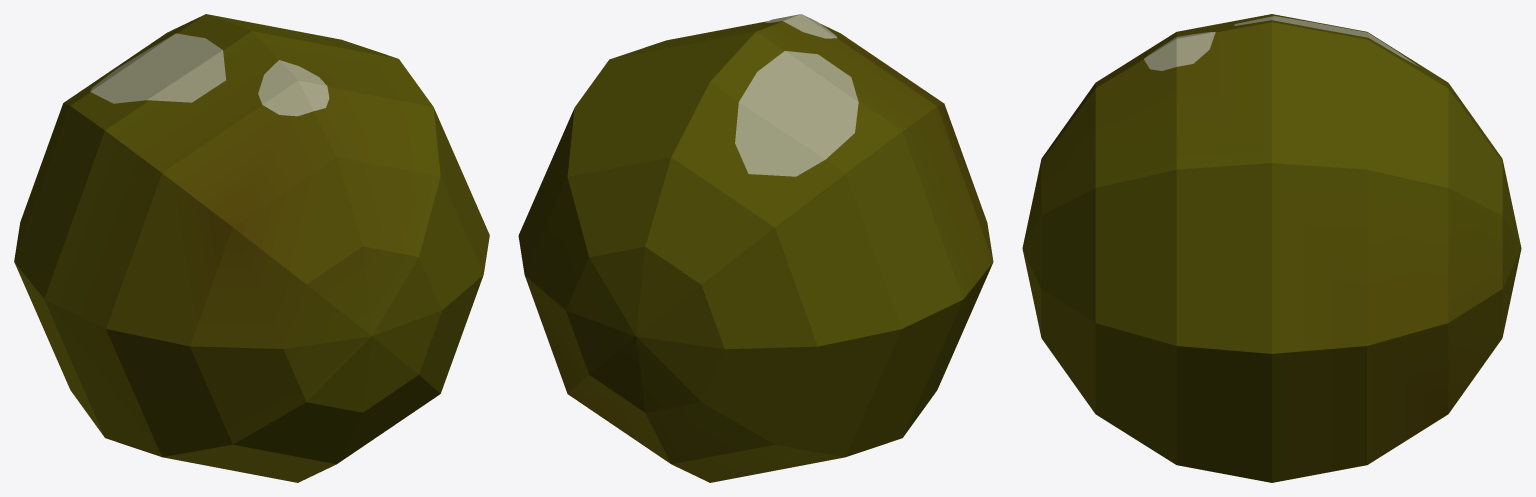
Rendered from platformBuoyBulbOff.fbx.
3 renders of one model, left to right at view 1: azimuth 30°, elevation 25°; view 2: azimuth 150°, elevation 25°; view 3: azimuth 270°, elevation 25°, orthographic. The views are drawn at different scales.
Visible parts, largest first — view 1: platformBuoyBulbOff; view 2: platformBuoyBulbOff; view 3: platformBuoyBulbOff.
Part boxes in pixels (x1,y1,x2,y2): platformBuoyBulbOff: (14, 14, 489, 482); platformBuoyBulbOff: (518, 14, 993, 482); platformBuoyBulbOff: (1022, 14, 1521, 482).
Bounding box in the file's own units: 38.36 × 38.36 × 38.36.
